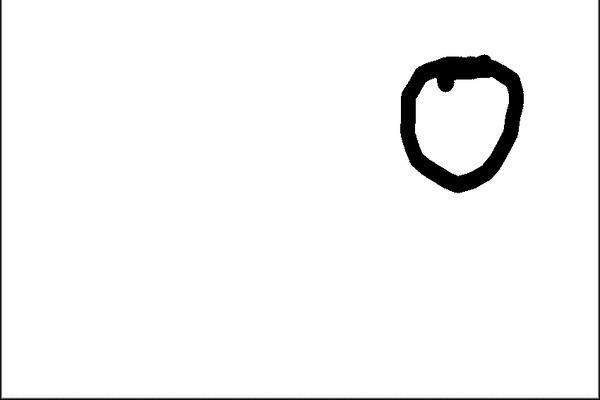O: (385, 47, 535, 202)
